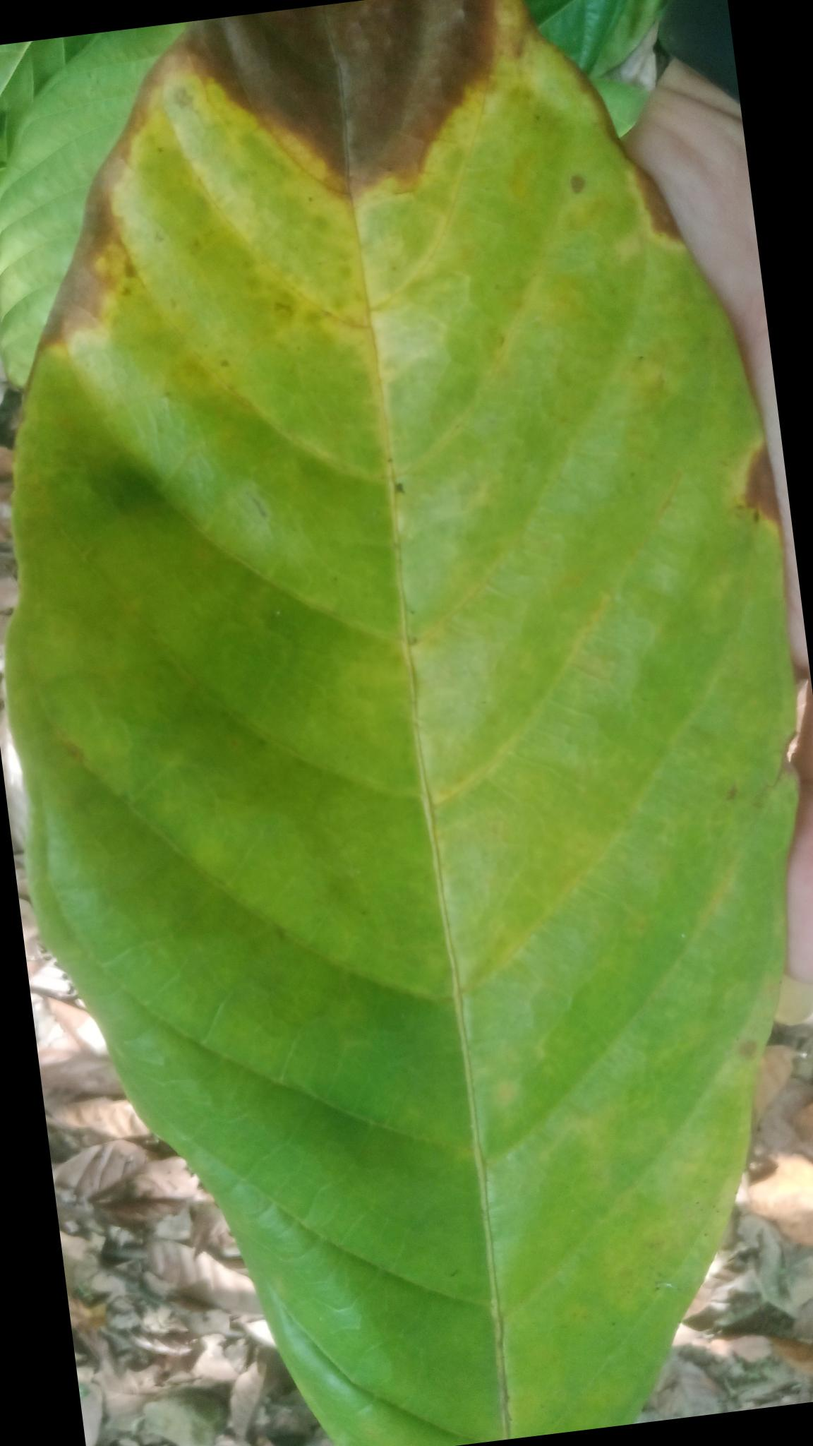Fosforo: (0, 24, 787, 1446)
